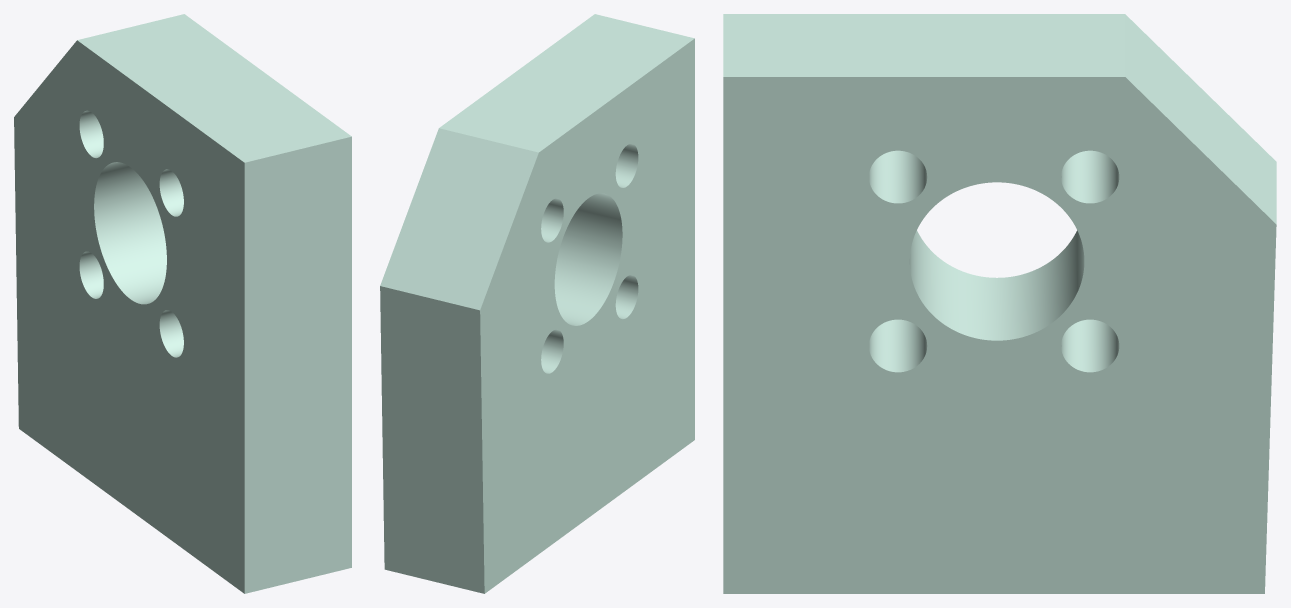
3 renders of one model, left to right at view 1: azimuth 30°, elevation 25°; view 2: azimuth 150°, elevation 25°; view 3: azimuth 270°, elevation 25°, orthographic. The views are drawn at different scales.
Parts seen in each view (by area): view 1: Renderer Node; view 2: Renderer Node; view 3: Renderer Node.
Part boxes in pixels (left/top/right/bottom): Renderer Node: left=14, top=14, right=351, bottom=593; Renderer Node: left=380, top=14, right=694, bottom=593; Renderer Node: left=723, top=14, right=1276, bottom=593.
Bounding box in the file's own units: 0.1953 × 0.7495 × 0.7266.
